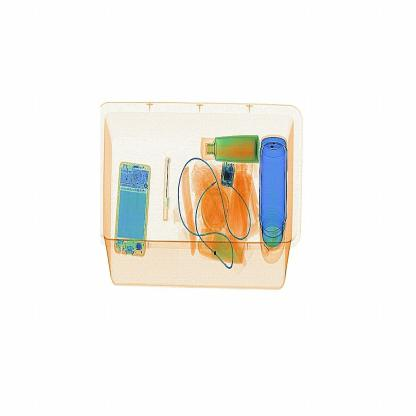pliers: (156, 143, 182, 224)
